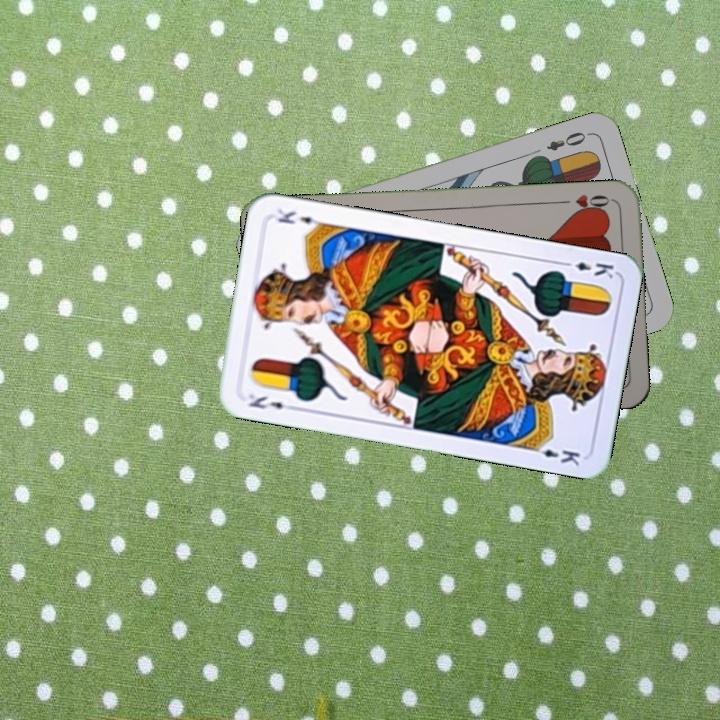EK: (558, 257, 617, 281), (244, 389, 299, 412)
EO: (542, 127, 593, 154)
HO: (555, 190, 614, 216)
